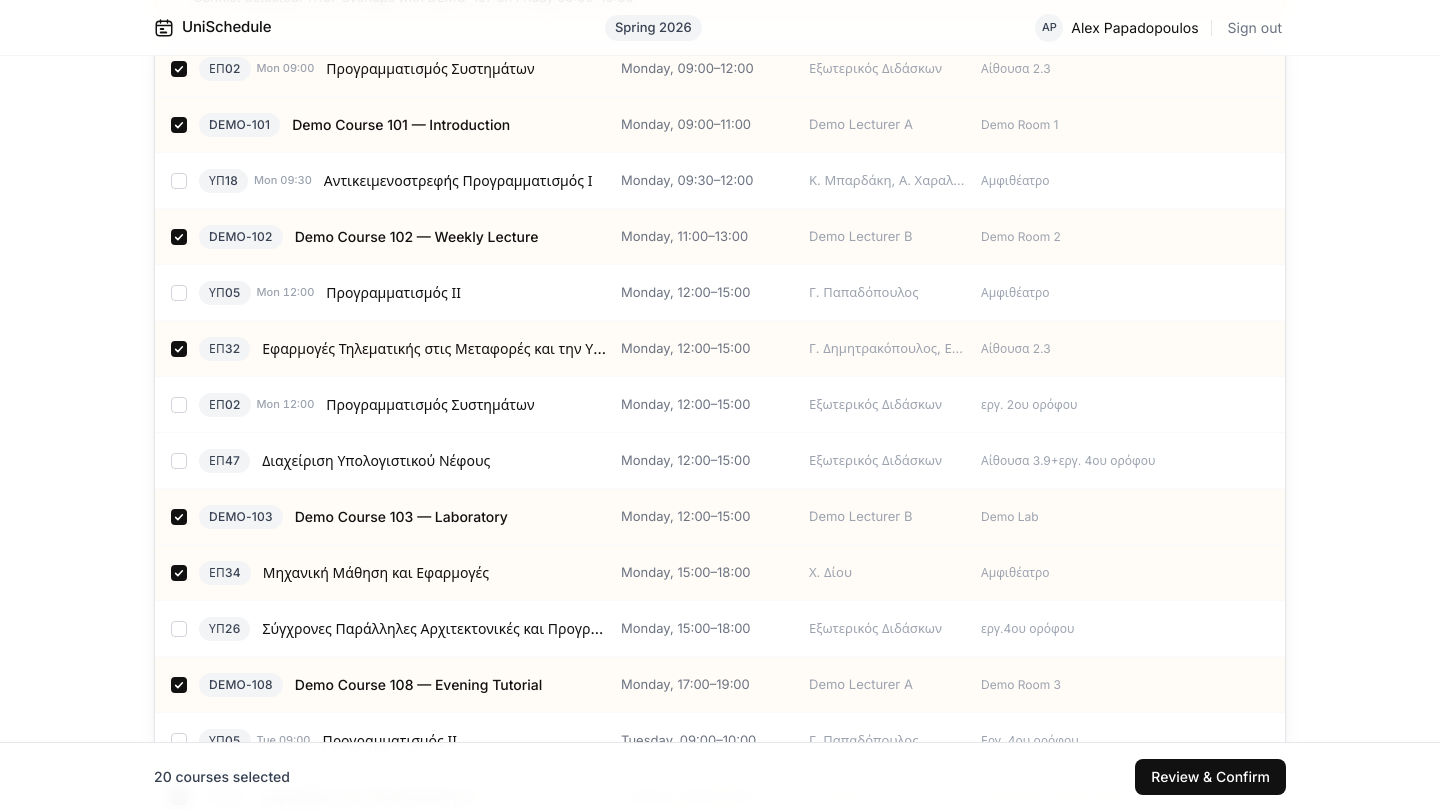
authenticated app › keeps warning about a clash even when one lecture is filtered out of view
(page scrolled)
Click the checkbox named "ΕΠ02 — Προγραμματισμός Συστημάτων, Monday, 12:00–15:00" at (720, 405), box x1=155 y1=377 x2=1285 y2=433
(page scrolled)
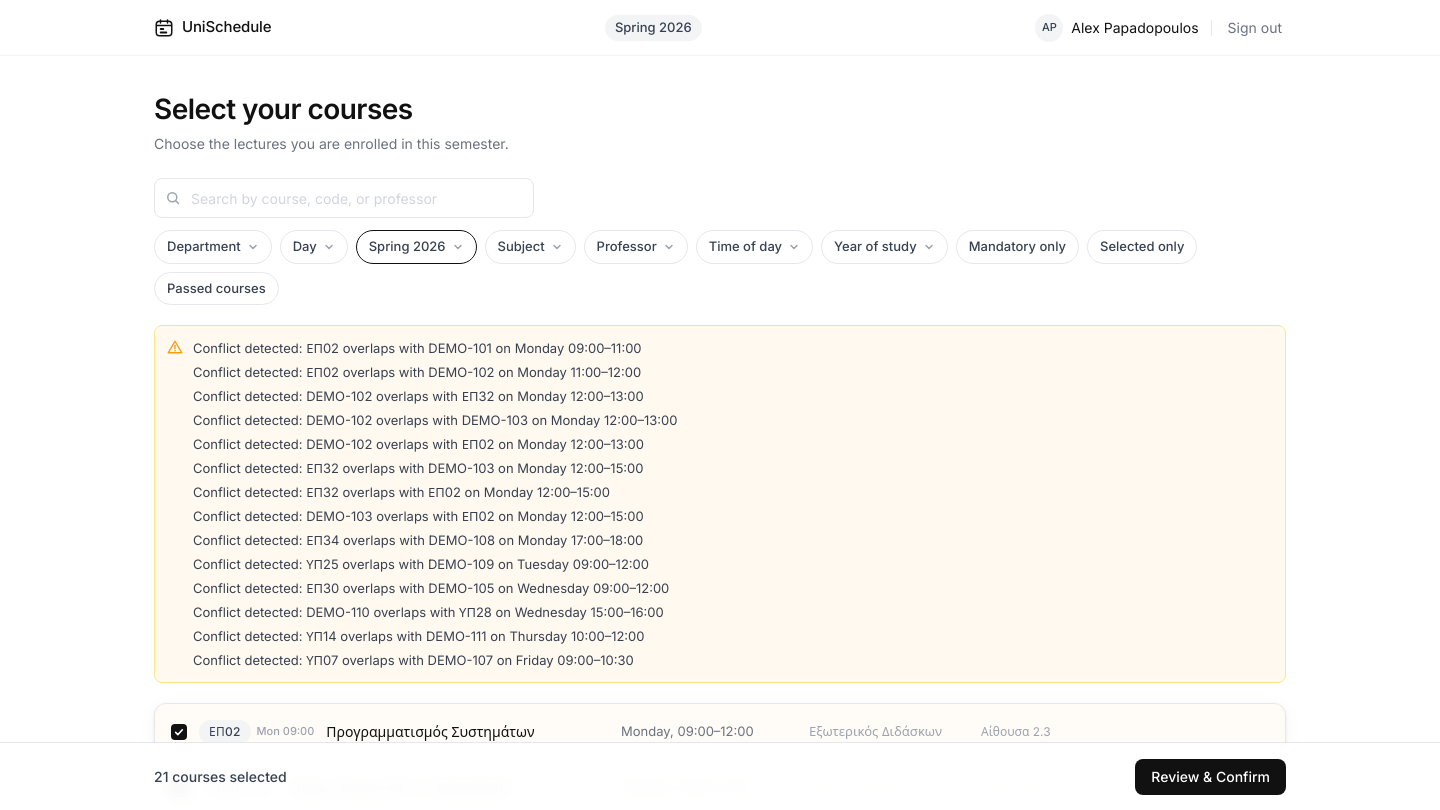
Click the button "Subject" at (530, 247), box x1=484 y1=230 x2=576 y2=264
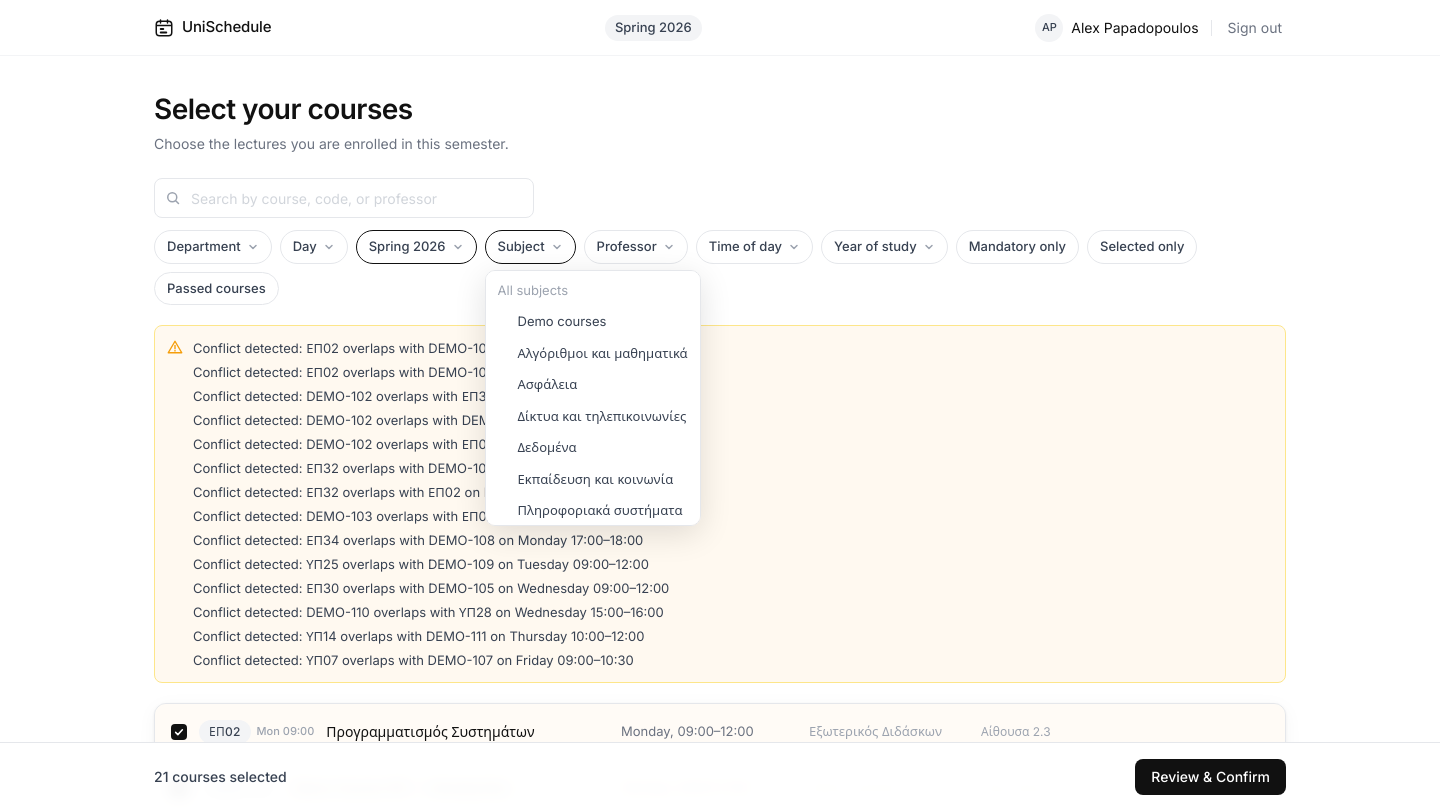
Click the option "Δίκτυα και τηλεπικοινωνίες" at (593, 416), box x1=486 y1=400 x2=700 y2=432
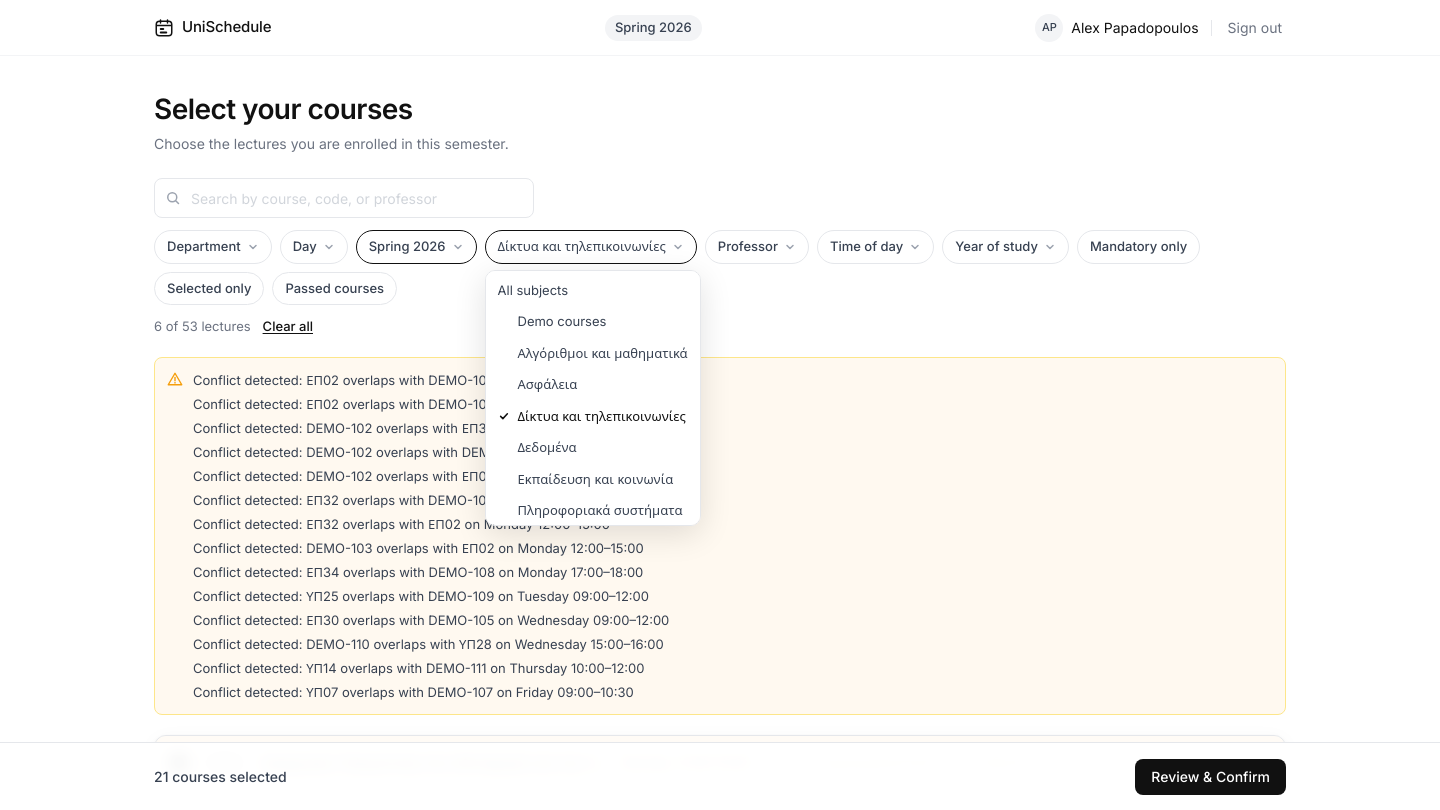
expect the text "Προγραμματισμός Συστημάτων" is gone: met
